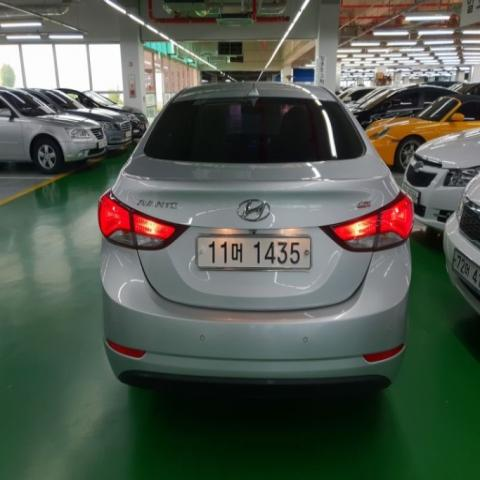LP: (190, 231, 316, 276)
